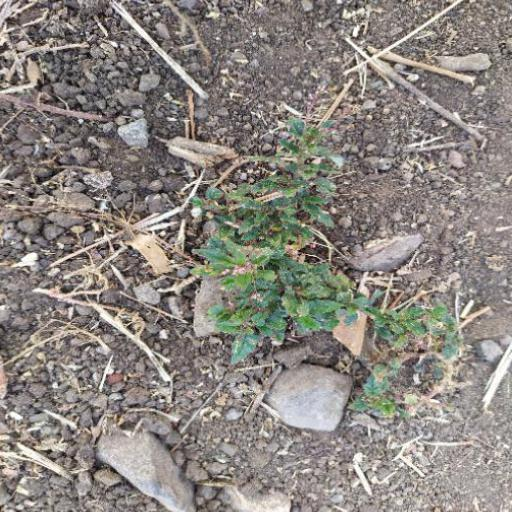weed: (204, 130, 459, 385)
